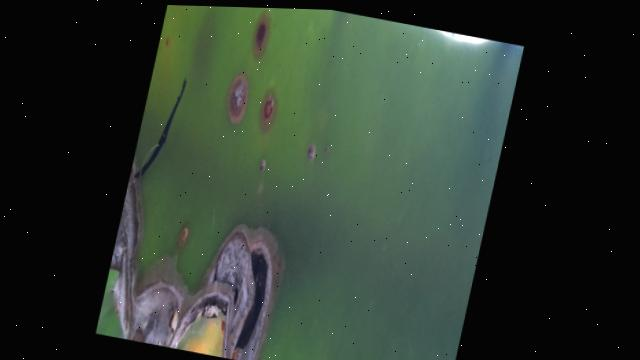stemcanker: (224, 69, 256, 128), (250, 9, 274, 66), (257, 87, 280, 132), (169, 216, 196, 254), (302, 139, 320, 168), (252, 151, 270, 179)
